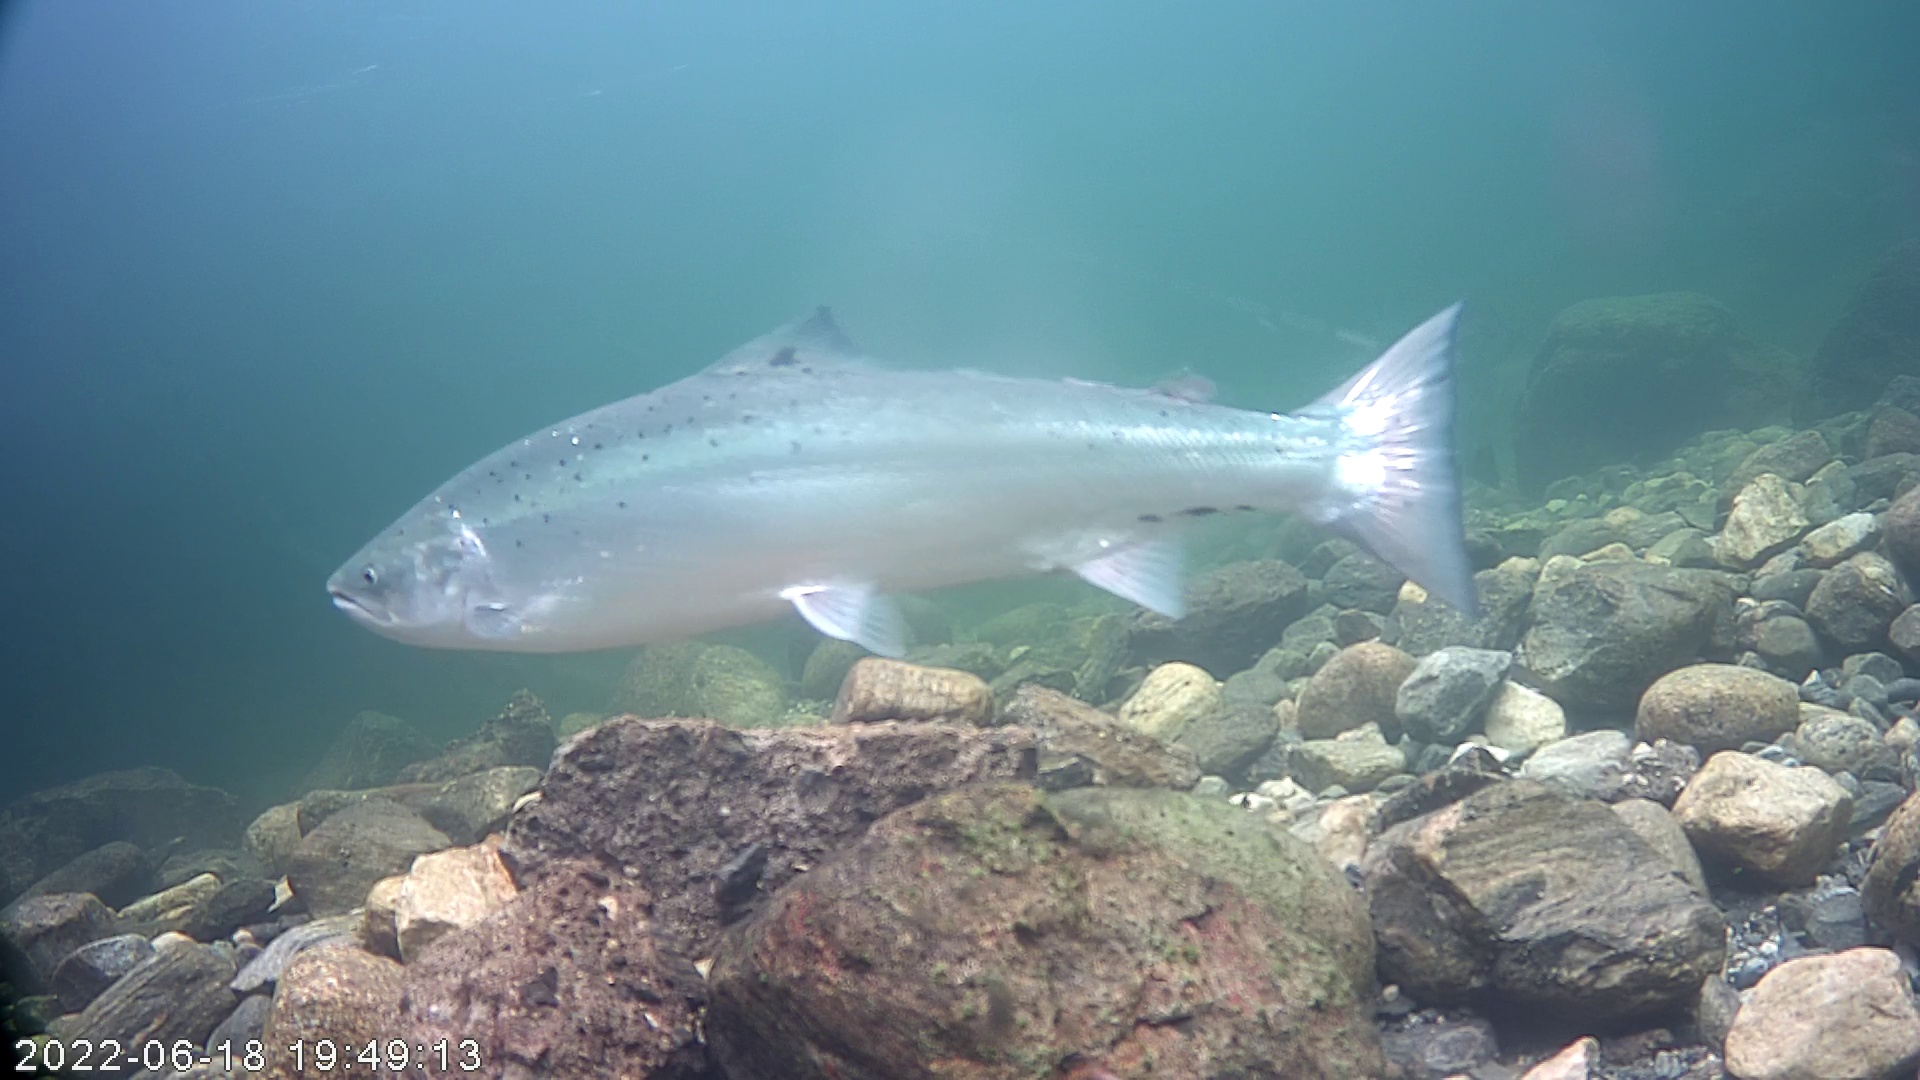salmon: (320, 295, 1487, 663)
